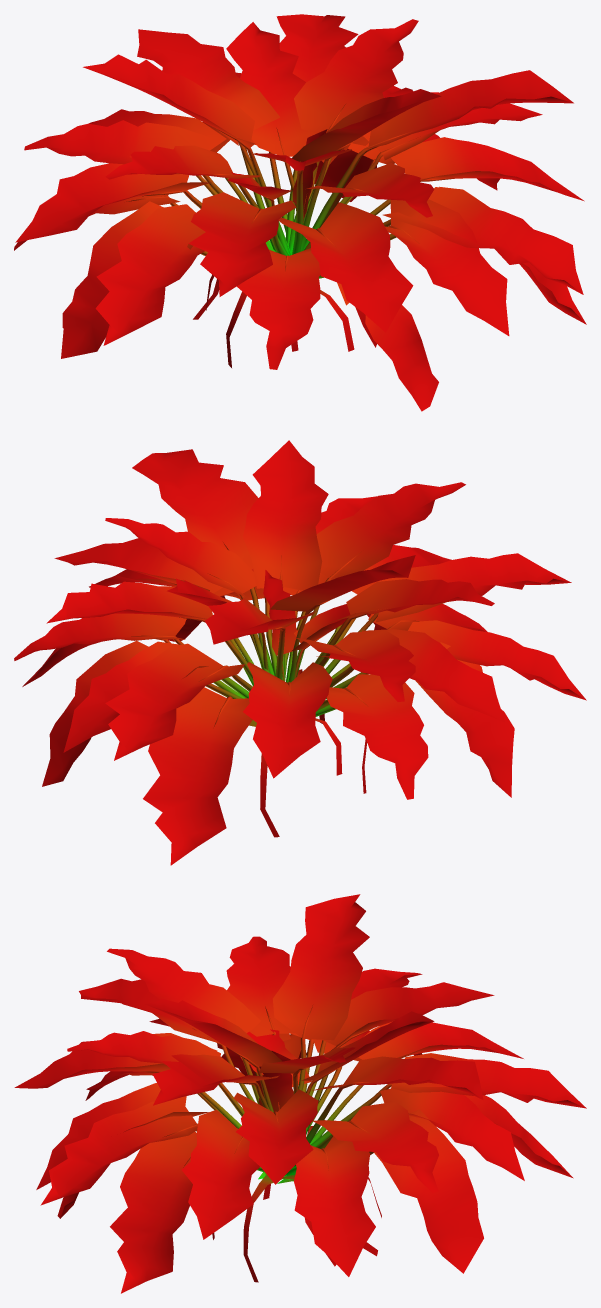
The model's file is Xanadu_LOD0_Var4_siroZ.fbx.
3 renders of one model, top to bottom at view 1: azimuth 30°, elevation 25°; view 2: azimuth 150°, elevation 25°; view 3: azimuth 270°, elevation 25°, orthographic. The views are drawn at different scales.
Parts seen in each view (by area): view 1: _eb1a_Var4_LOD0; view 2: _eb1a_Var4_LOD0; view 3: _eb1a_Var4_LOD0.
Part boxes in pixels (x1=…): _eb1a_Var4_LOD0: x1=14, y1=14, x2=586, y2=411; _eb1a_Var4_LOD0: x1=14, y1=440, x2=586, y2=865; _eb1a_Var4_LOD0: x1=14, y1=894, x2=586, y2=1293.
Size of the model in its own units: 66 by 37.65 by 71.25.
